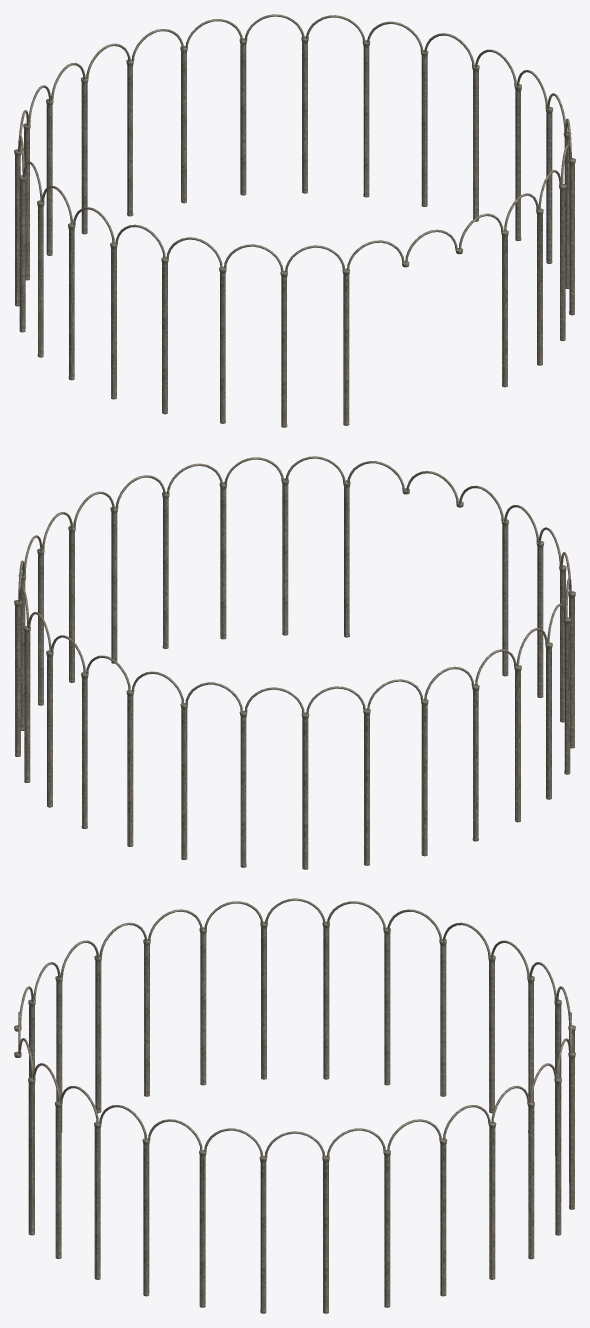
The model's file is Greenhouse_Body03.FBX.
3 views of the same model, one above another, from view 1: azimuth 30°, elevation 25°; view 2: azimuth 150°, elevation 25°; view 3: azimuth 270°, elevation 25° (orthographic).
Parts seen in each view (by area): view 1: Greenhouse_Body03; view 2: Greenhouse_Body03; view 3: Greenhouse_Body03.
Part boxes in pixels (x1=…): Greenhouse_Body03: x1=14, y1=14, x2=575, y2=427; Greenhouse_Body03: x1=14, y1=456, x2=575, y2=869; Greenhouse_Body03: x1=14, y1=898, x2=575, y2=1313.
Bounding box in the file's own units: 8456 × 2999 × 8456.
